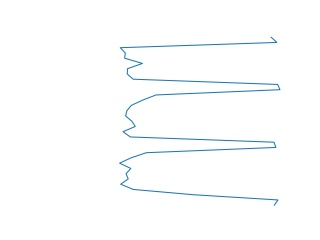majorRiverChannelBar: (118, 39, 283, 206)
